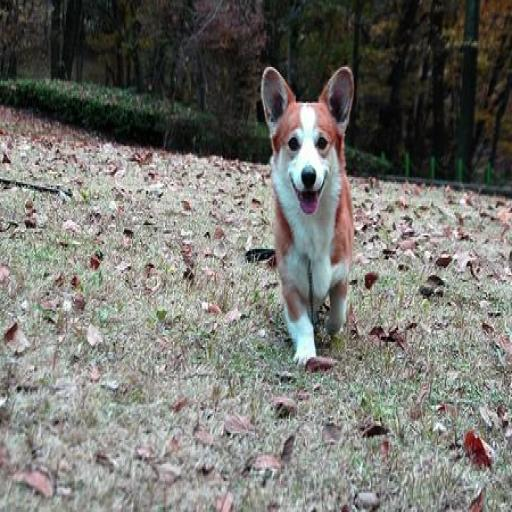dog_face: (257, 64, 357, 206)
